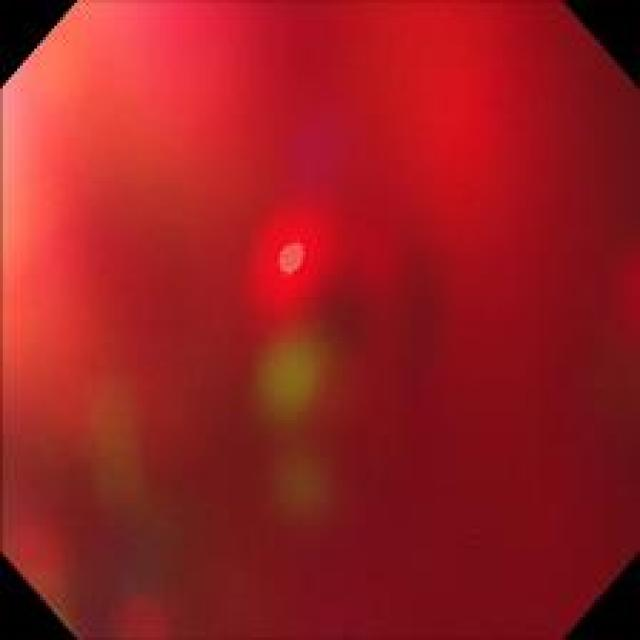color misalignment: (9, 12, 625, 626), (82, 375, 174, 518), (239, 192, 332, 314), (264, 332, 342, 419), (282, 435, 330, 526)
